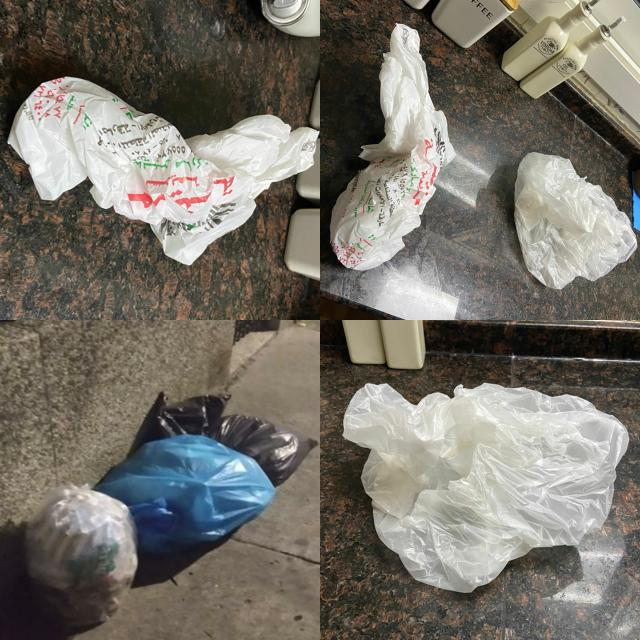Single-layer Plastic: (344, 384, 629, 592), (9, 78, 319, 265), (330, 24, 455, 270), (96, 434, 275, 554), (514, 152, 636, 289), (135, 395, 316, 485), (25, 485, 138, 628)
